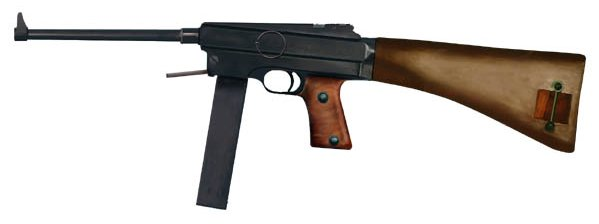rifle: (13, 15, 589, 208)
